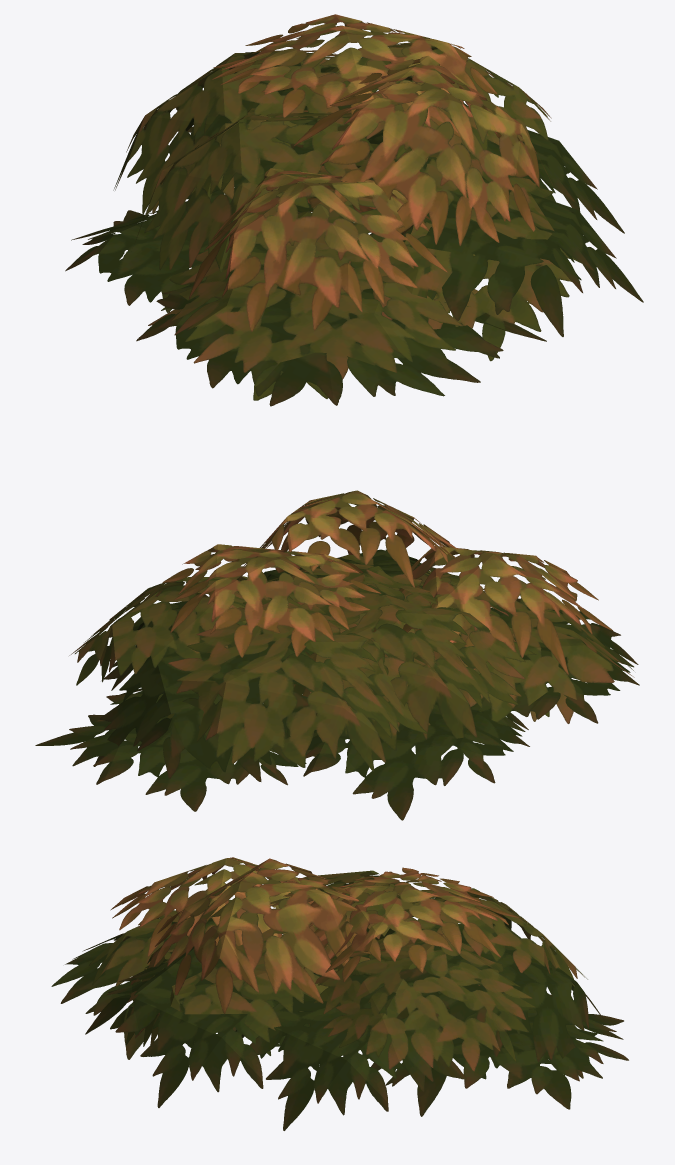
File: bush_04.fbx
The picture shows the model from 3 angles, top to bottom: view 1: azimuth 30°, elevation 25°; view 2: azimuth 150°, elevation 25°; view 3: azimuth 270°, elevation 25°; orthographic projection. The views are drawn at different scales.
Parts seen in each view (by area): view 1: obj0.091; view 2: obj0.091; view 3: obj0.091.
Part boxes in pixels (x1,y1,x2,y2): obj0.091: (65, 14, 643, 406); obj0.091: (35, 490, 639, 820); obj0.091: (51, 857, 628, 1130).
Size of the model in its own units: 7.11 by 2.69 by 8.72.
